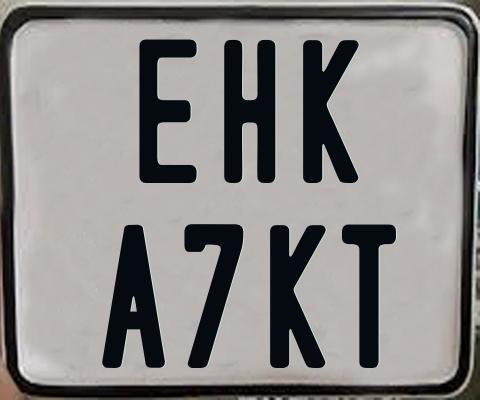7: (181, 222, 246, 368)
A: (102, 225, 166, 370)
E: (139, 36, 203, 182)
H: (222, 40, 279, 184)
K: (303, 37, 363, 184), (268, 225, 324, 373)
T: (340, 224, 399, 374)
